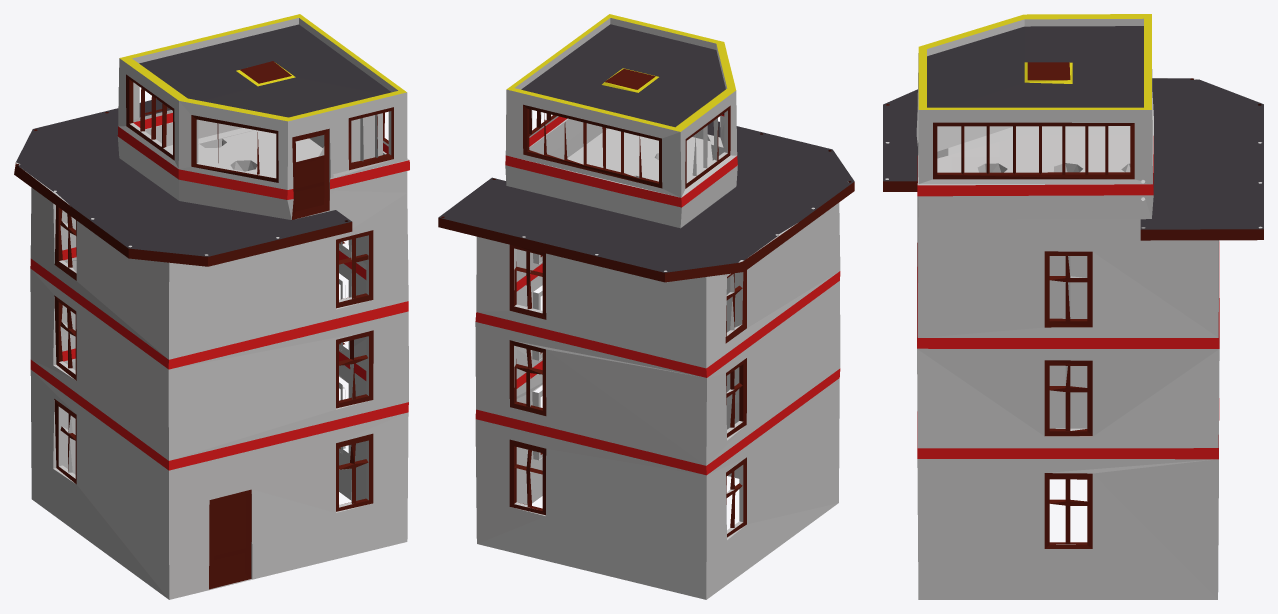
Rendered from fldtwr.glb.
3 views of the same model, side by side, from view 1: azimuth 30°, elevation 25°; view 2: azimuth 150°, elevation 25°; view 3: azimuth 270°, elevation 25° (orthographic). The views are drawn at different scales.
Parts seen in each view (by area): view 1: German.Control.Tower.1.700; view 2: German.Control.Tower.1.700; view 3: German.Control.Tower.1.700.
Part boxes in pixels (x1,y1,x2,y2): German.Control.Tower.1.700: [14, 14, 409, 599]; German.Control.Tower.1.700: [438, 14, 854, 599]; German.Control.Tower.1.700: [883, 14, 1263, 599].
Bounding box in the file's own units: 12 × 18 × 12.69.
